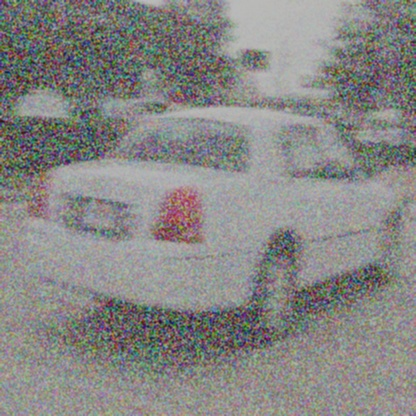Vehicle: (27, 92, 402, 341)
